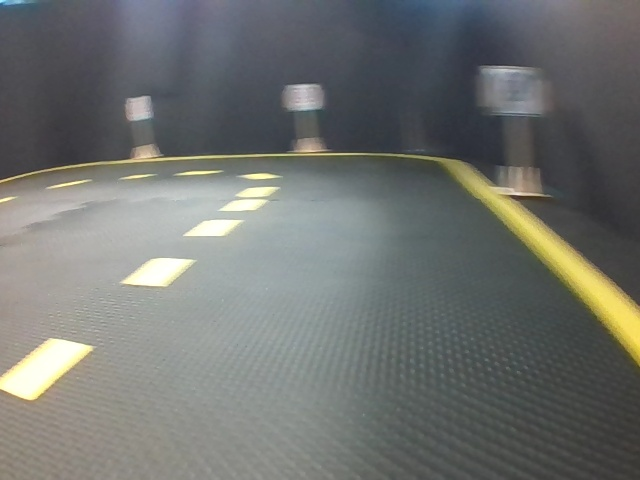30: (288, 85, 321, 110)
no30: (484, 66, 542, 113)
